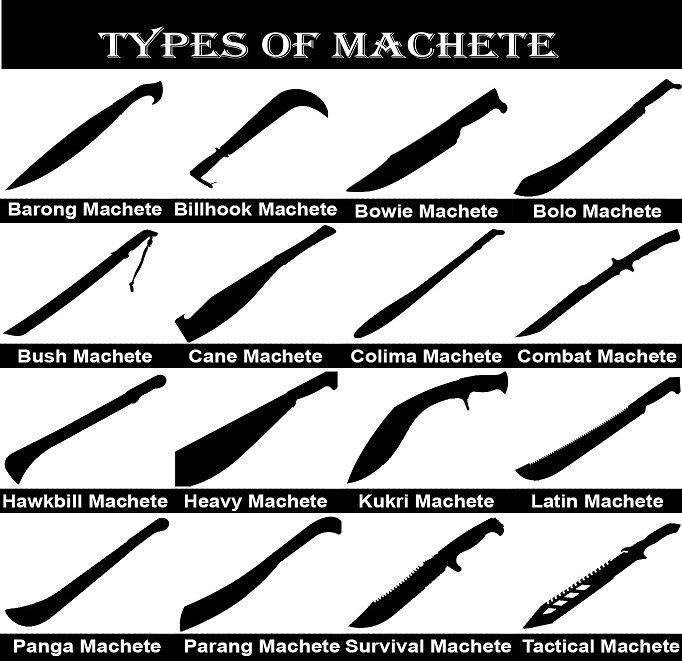espada: (518, 228, 673, 344), (6, 376, 166, 482), (5, 221, 148, 329)
facao: (513, 69, 671, 204), (2, 72, 171, 191), (340, 75, 503, 196), (159, 223, 339, 331), (180, 77, 329, 203), (15, 525, 167, 632), (505, 372, 668, 469), (352, 227, 498, 335), (517, 528, 678, 624), (351, 527, 498, 632), (350, 370, 479, 484), (178, 382, 331, 477), (186, 525, 331, 624)
